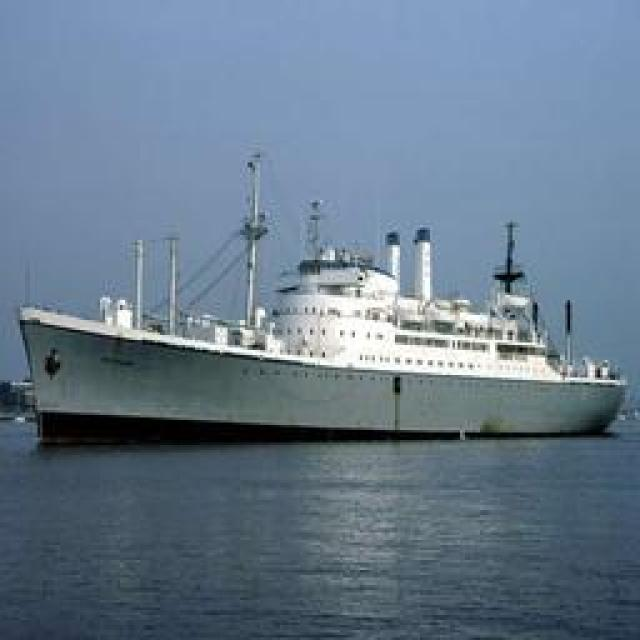ship: (18, 165, 628, 435)
